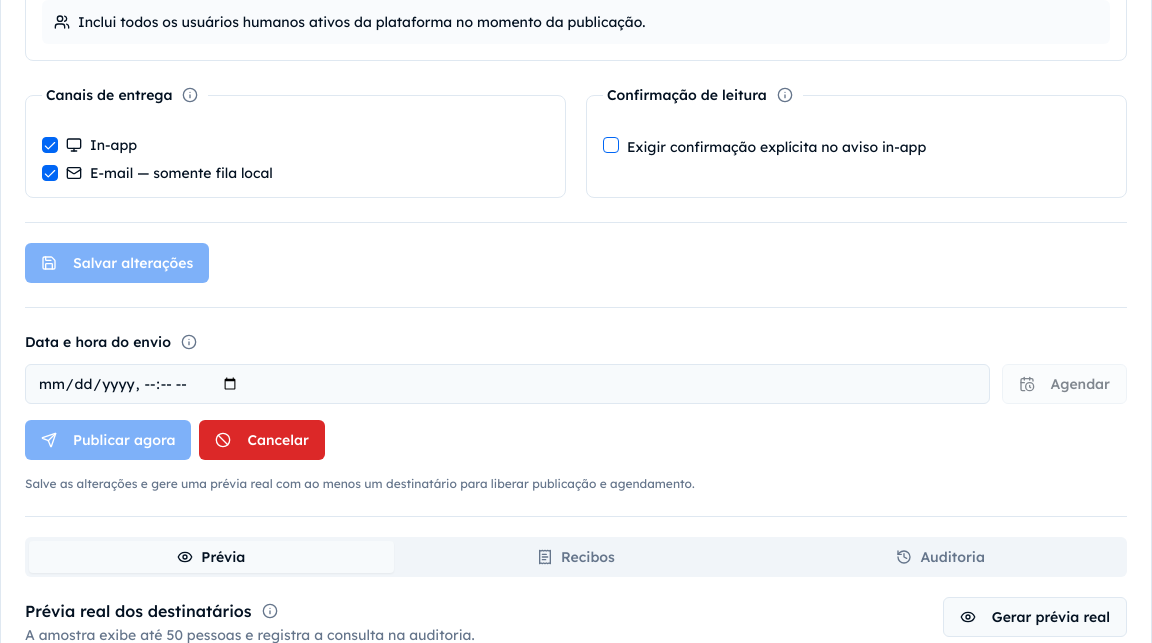
Test: PlatformAnnouncementsPanel › uses a saved real preview as a gate before confirmed publication
The width and height of the screenshot is (1152, 643).
(page scrolled)
Expected: the button "Publicar agora" is disabled, [25, 420, 192, 460]
Click the button "Gerar prévia real". click: click(1035, 617)
box: [943, 597, 1127, 637]
(page scrolled)
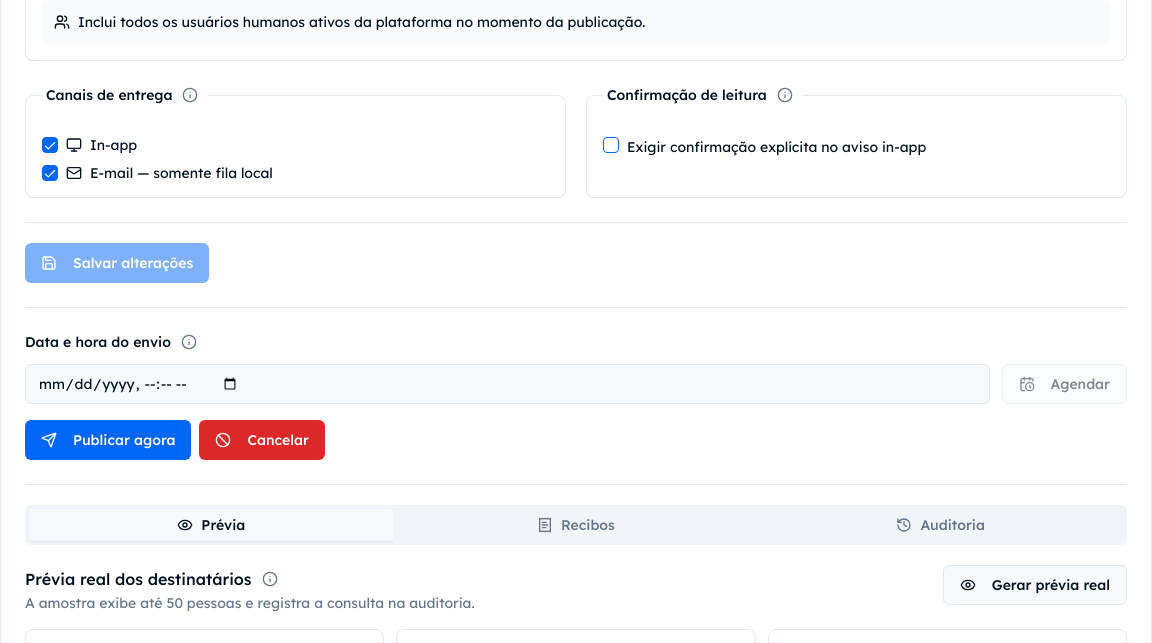
Expected: the button "Publicar agora" is enabled
Click the button "Publicar agora". click: click(108, 440)
box: [25, 420, 192, 460]
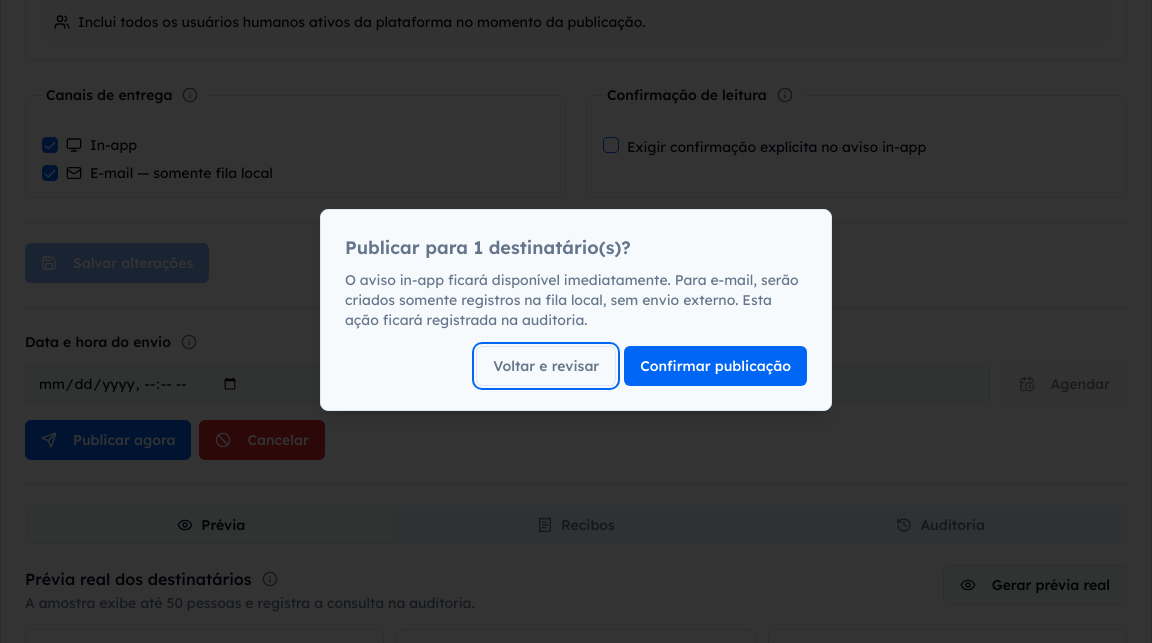
Expected: the heading "Publicar para 1 destinatário(s)?" is shown, [345, 236, 631, 259]
Expected: the text "sem envio externo" is shown, [345, 271, 799, 329]
Click the button "Confirmar publicação". click: click(716, 366)
box: [624, 346, 807, 386]
(page scrolled)
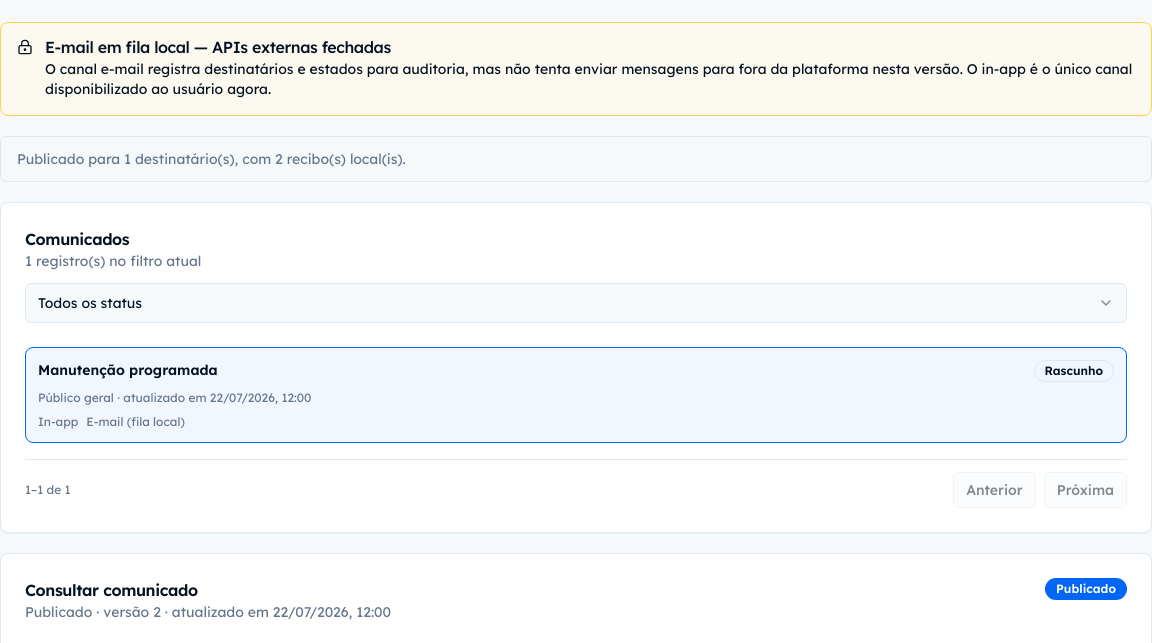
Expected: the text "Publicado para 1 destinatário(s), com 2 recibo(s) local(is)." is shown, [0, 136, 1151, 182]
